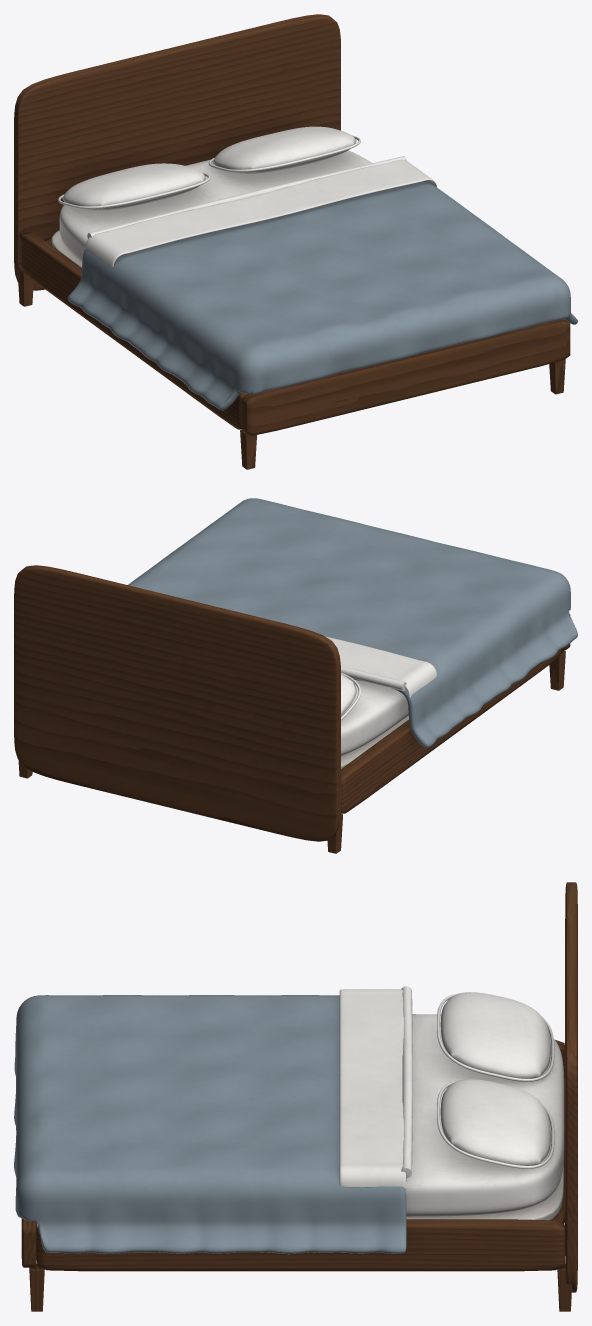
Rendered from walnut-queen.glb.
3 renders of one model, top to bottom at view 1: azimuth 30°, elevation 25°; view 2: azimuth 150°, elevation 25°; view 3: azimuth 270°, elevation 25°, orthographic. The views are drawn at different scales.
Parts seen in each view (by area): view 1: fabric_secondary_duvet, wood_h, sheet_cotton, pillow_fabric, wood_hy, wood_v; view 2: wood_h, fabric_secondary_duvet, sheet_cotton, wood_hy, wood_v, pillow_fabric, mattress_ticking; view 3: fabric_secondary_duvet, sheet_cotton, pillow_fabric, wood_hy, wood_h, mattress_ticking, wood_v.
Boxes of the visible parts, <box> form: fabric_secondary_duvet: <box>67,180,577,410</box>; wood_h: <box>14,14,570,435</box>; sheet_cotton: <box>59,150,437,267</box>; pillow_fabric: <box>58,126,360,210</box>; wood_hy: <box>19,232,247,429</box>; wood_v: <box>18,269,565,469</box>; wood_h: <box>14,565,570,841</box>; fabric_secondary_duvet: <box>128,498,577,747</box>; sheet_cotton: <box>326,636,437,755</box>; wood_hy: <box>341,648,563,813</box>; wood_v: <box>18,651,565,853</box>; pillow_fabric: <box>341,672,360,719</box>; mattress_ticking: <box>341,715,408,769</box>; fabric_secondary_duvet: <box>14,995,406,1254</box>; sheet_cotton: <box>339,986,564,1216</box>; pillow_fabric: <box>437,992,554,1168</box>; wood_hy: <box>37,1040,564,1271</box>; wood_h: <box>21,882,577,1292</box>; mattress_ticking: <box>406,1165,563,1220</box>; wood_v: <box>29,1264,571,1311</box>.
Bounding box in the file's own units: 1.93 × 1.1 × 2.19.
7 materials, 7 textured.
